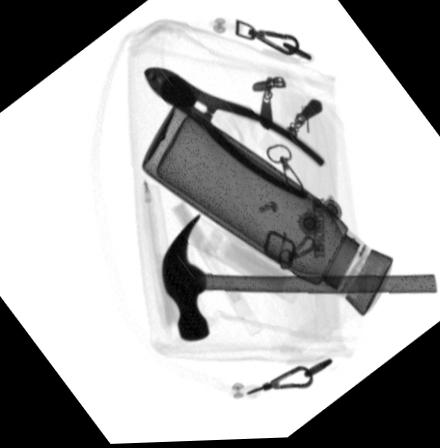Hammer: (160, 216, 435, 345)
Pliers: (140, 66, 323, 202)
